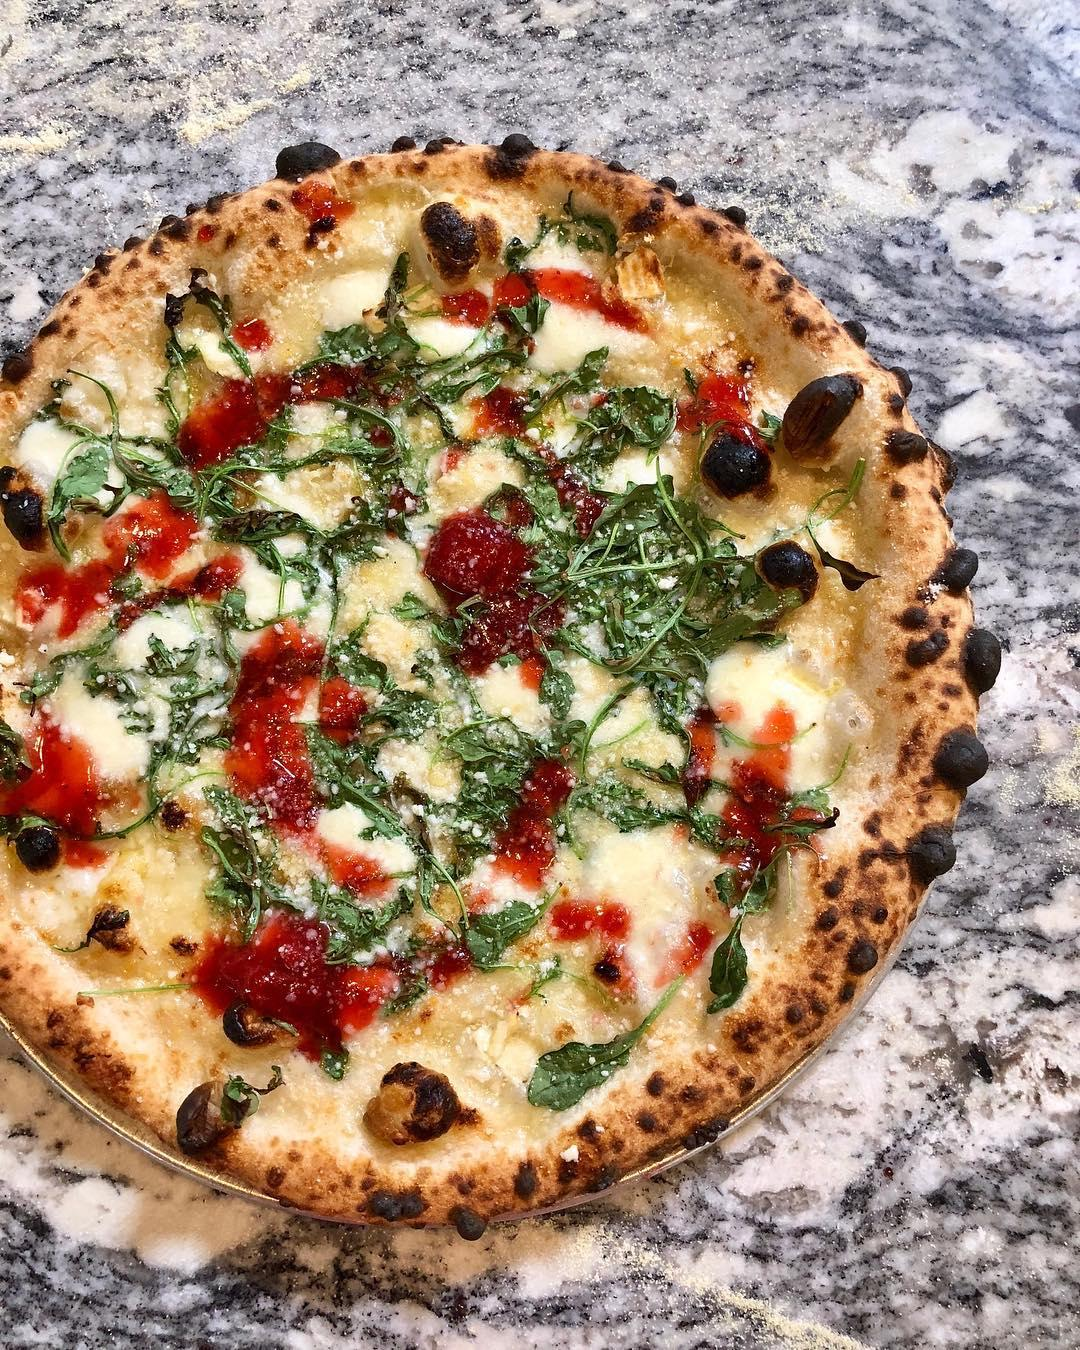Arugula: (541, 485, 736, 691), (337, 321, 583, 460), (158, 431, 391, 571), (191, 785, 403, 937), (361, 658, 522, 824), (88, 607, 240, 755)
Pizza: (0, 151, 990, 1217)
